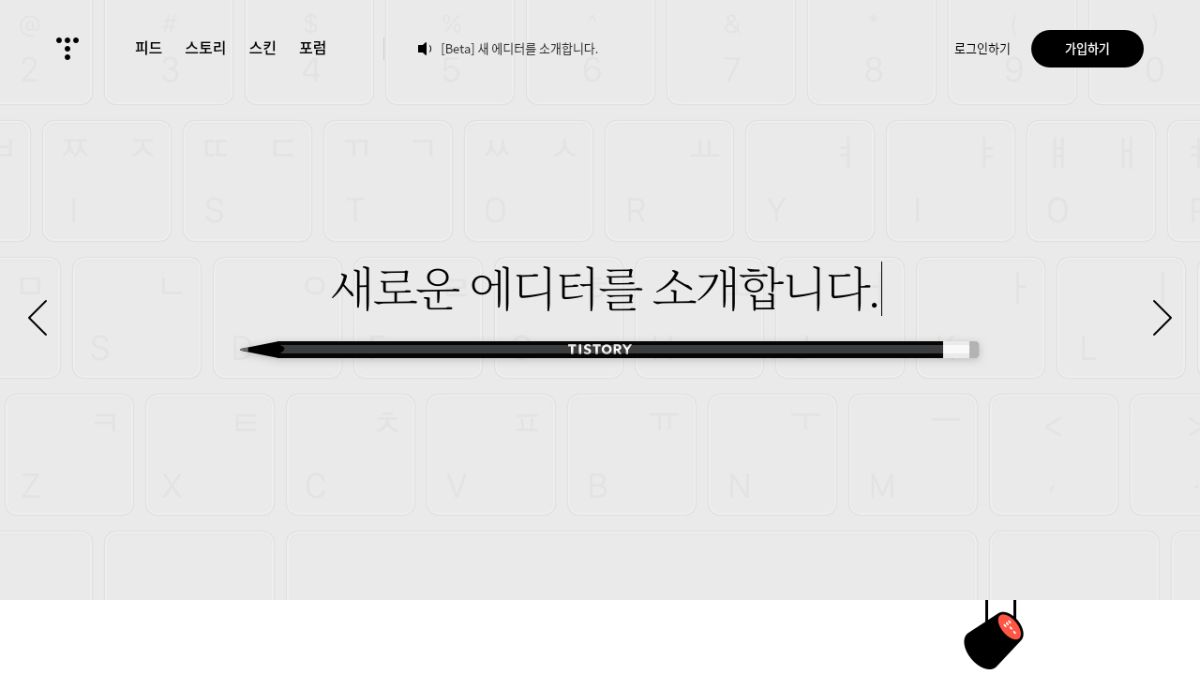menu: (1, 1, 1199, 113)
menu-button: (411, 1, 701, 110), (257, 3, 396, 112), (113, 4, 249, 112), (1, 4, 97, 115), (1101, 31, 1199, 72), (1015, 34, 1085, 70)
